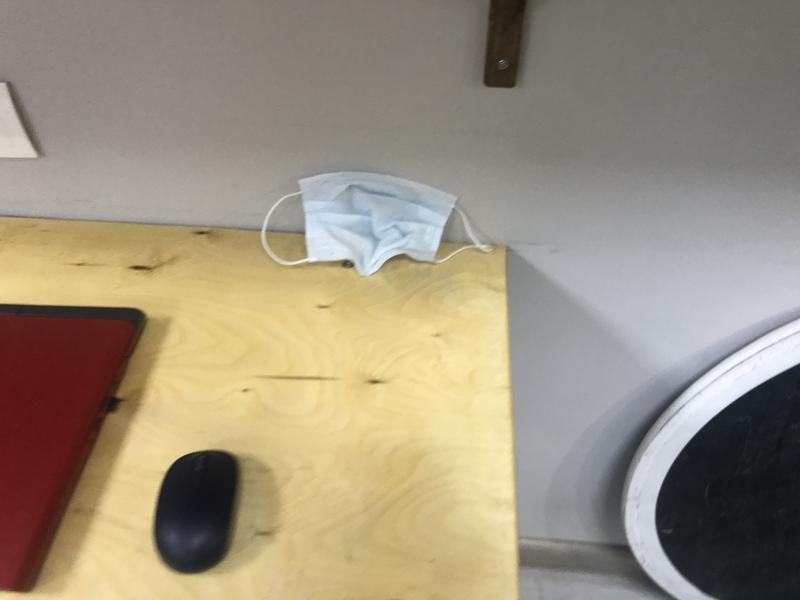medical_mask: (262, 172, 491, 277)
